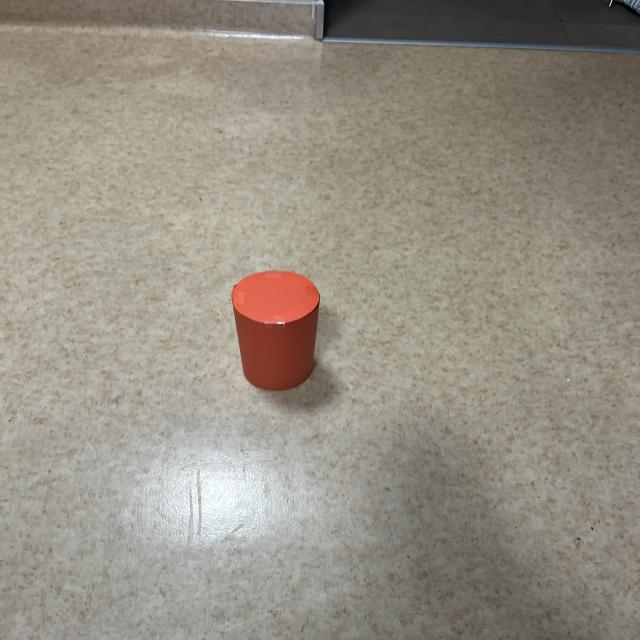przeszkoda: (232, 271, 320, 391)
